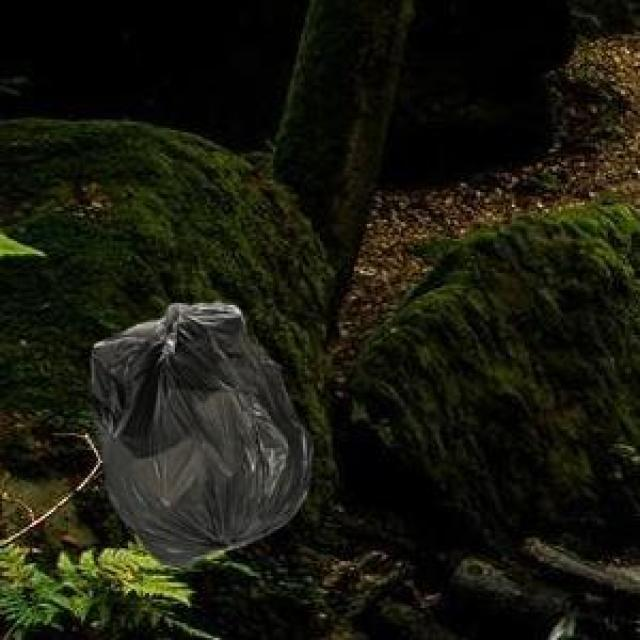miscellaneous trash: (88, 299, 307, 563)
